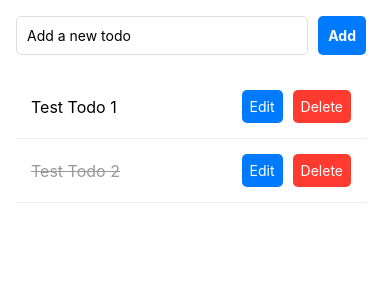
Test: TodoScreen › adds a new todo
Type "New Todo" into the field with placeholder "Add a new todo". click: (162, 36)
box: [16,16,308,55]
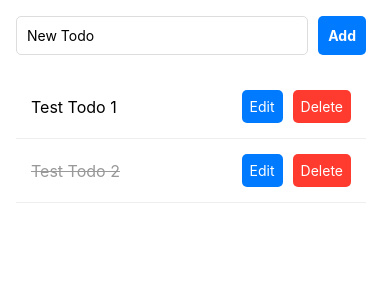
Click the text "Add". click: (342, 36)
box: [328,27,356,44]
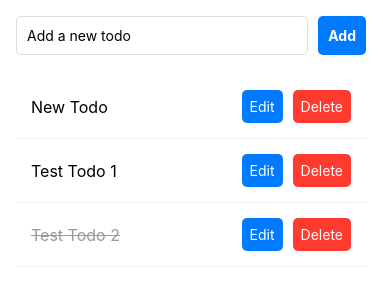
Expected: the text "New Todo" is shown, [31,96,108,116]
